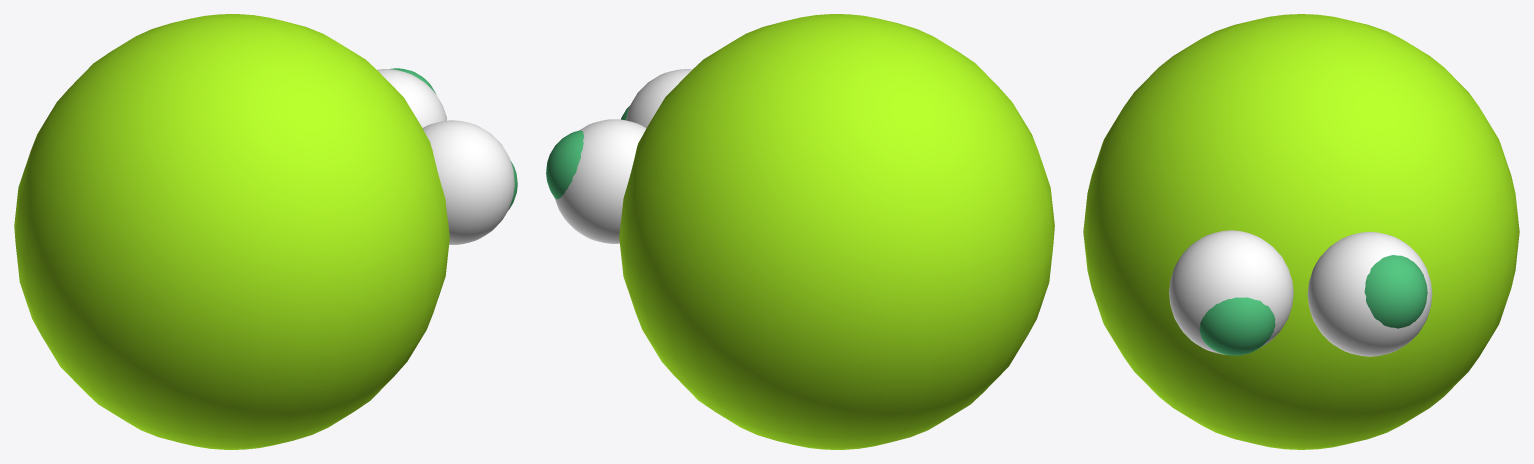
Rendered from whisk.fbx.
The picture shows the model from 3 angles, left to right: view 1: azimuth 30°, elevation 25°; view 2: azimuth 150°, elevation 25°; view 3: azimuth 270°, elevation 25°; orthographic projection.
Parts seen in each view (by area): view 1: Sphere, Sphere.001, Sphere.002; view 2: Sphere, Sphere.002, Sphere.003, Sphere.001; view 3: Sphere, Sphere.001, Sphere.002, Sphere.003, Sphere.004.
Part boxes in pixels (<box>): Sphere: <box>14,14,449,449</box>; Sphere.001: <box>422,120,514,244</box>; Sphere.002: <box>377,69,446,127</box>; Sphere: <box>619,14,1054,449</box>; Sphere.002: <box>555,119,646,243</box>; Sphere.003: <box>546,130,583,199</box>; Sphere.001: <box>626,69,692,127</box>; Sphere: <box>1083,14,1519,449</box>; Sphere.001: <box>1169,230,1293,354</box>; Sphere.002: <box>1307,232,1432,356</box>; Sphere.003: <box>1364,255,1427,328</box>; Sphere.004: <box>1199,297,1275,355</box>.
Size of the model in its own units: 398 by 345 by 345.
